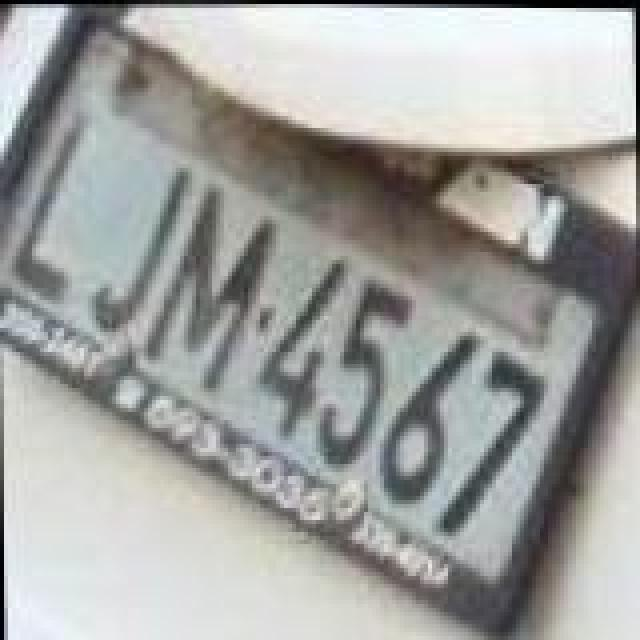4: (254, 258, 354, 438)
5: (308, 276, 412, 468)
6: (376, 334, 484, 506)
7: (426, 346, 554, 542)
J: (86, 170, 198, 338)
L: (2, 104, 90, 304)
M: (136, 186, 280, 398)
